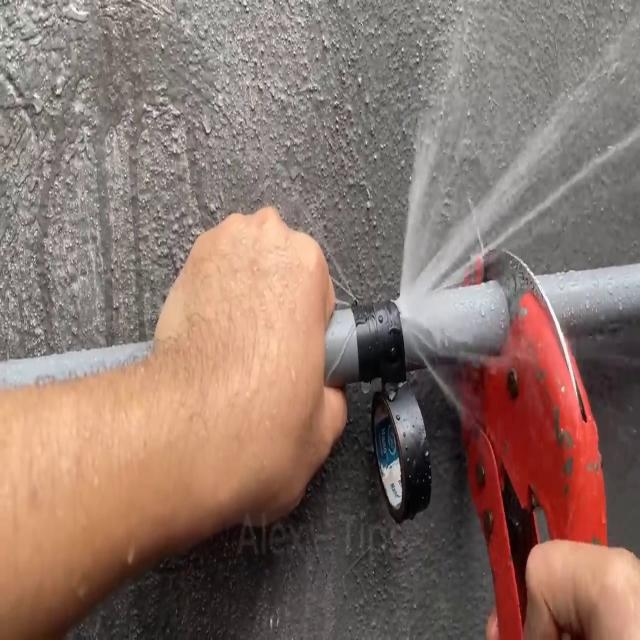leak: (399, 0, 640, 640)
